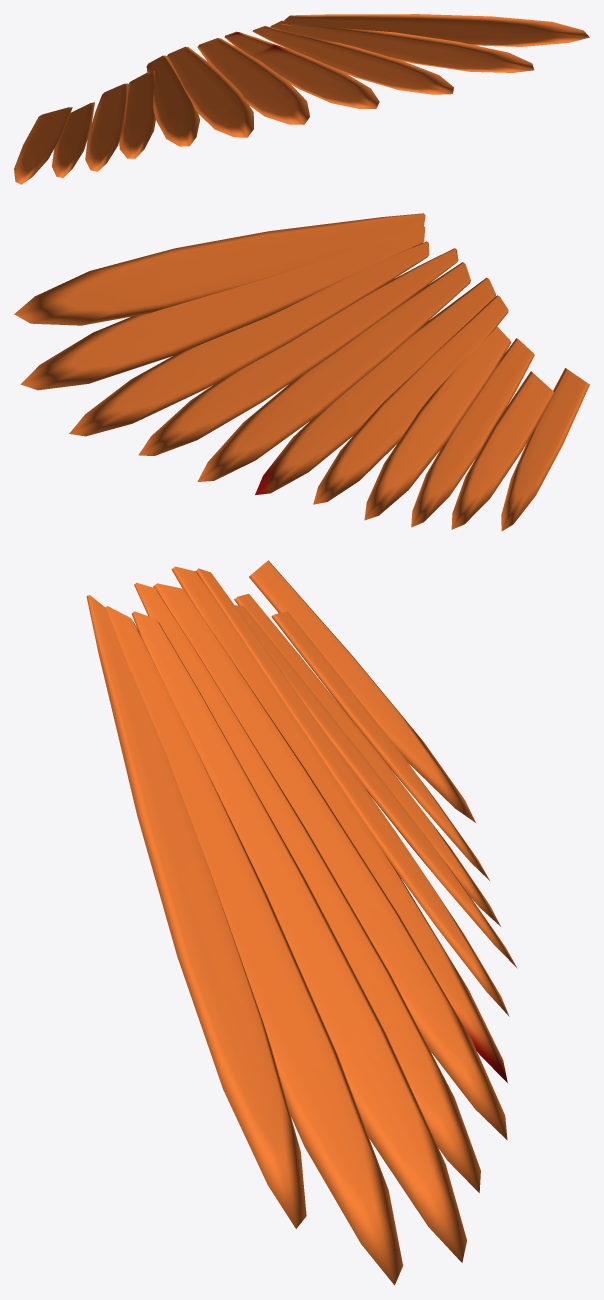
Rendered from alaIzq_pajaro_tel.obj.
3 renders of one model, top to bottom at view 1: azimuth 30°, elevation 25°; view 2: azimuth 150°, elevation 25°; view 3: azimuth 270°, elevation 25°, orthographic. The views are drawn at different scales.
Parts seen in each view (by area): view 1: polySurface1; view 2: polySurface1; view 3: polySurface1.
Part boxes in pixels (x1,y1,x2,y2): polySurface1: (14, 14, 589, 184); polySurface1: (14, 213, 589, 531); polySurface1: (86, 560, 517, 1285).
Bounding box in the file's own units: 11.87 × 4.37 × 3.97.
1 material, 1 textured.
